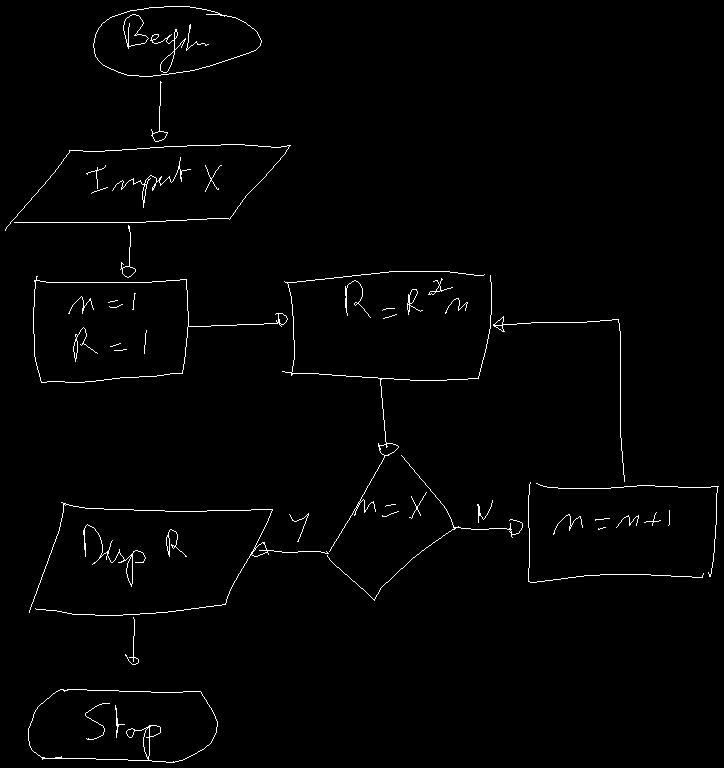arrow: (493, 316, 624, 481), (378, 378, 398, 455), (189, 313, 287, 326), (454, 519, 522, 537), (251, 542, 328, 556), (151, 81, 167, 141), (120, 225, 135, 277), (125, 617, 138, 664)
data: (29, 502, 272, 615), (5, 144, 290, 230)
decision: (327, 455, 458, 600)
process: (282, 271, 491, 380), (528, 482, 718, 582), (33, 276, 188, 382)
terminator: (28, 689, 217, 762), (93, 6, 261, 76)
text: (86, 157, 221, 207), (83, 524, 186, 586), (68, 293, 146, 361), (123, 14, 208, 72), (345, 278, 467, 318), (85, 703, 160, 759), (553, 510, 669, 534), (354, 492, 426, 518), (289, 513, 308, 541), (477, 500, 492, 522)
